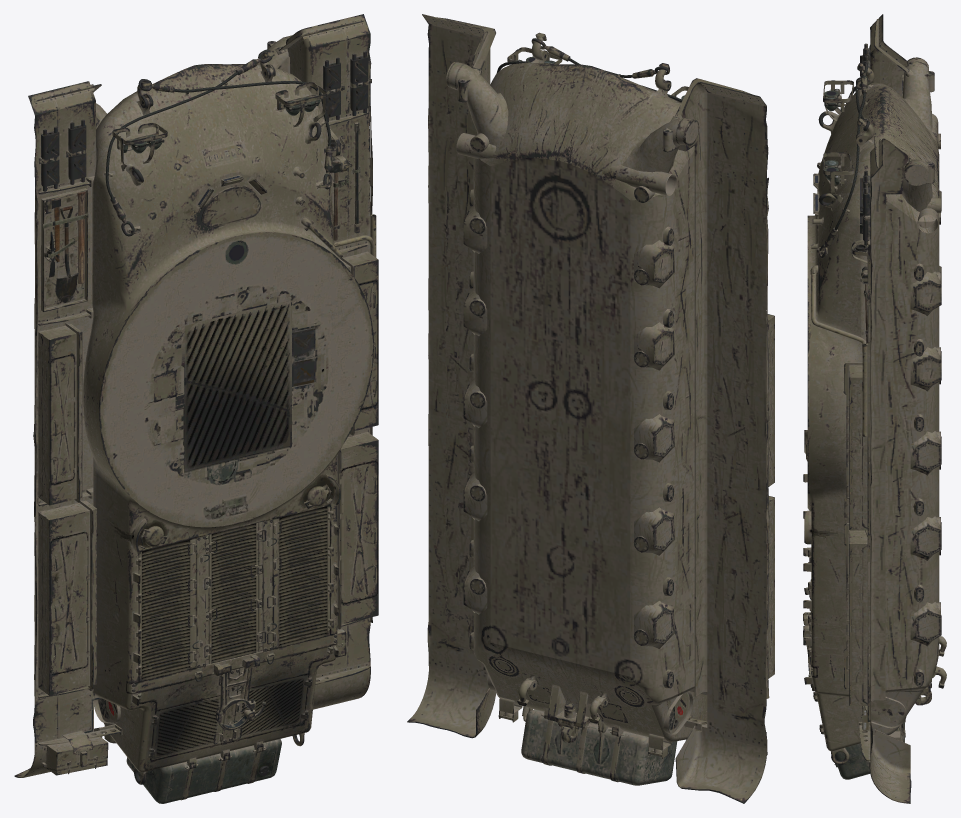
File: Hull.glb
3 views of the same model, side by side, from view 1: azimuth 30°, elevation 25°; view 2: azimuth 150°, elevation 25°; view 3: azimuth 270°, elevation 25° (orthographic). The views are drawn at different scales.
Visible parts, largest first — view 1: set_0_group_0; view 2: set_0_group_0; view 3: set_0_group_0.
Boxes of the visible parts, bbox=[...] form: set_0_group_0: bbox=[14, 14, 378, 803]; set_0_group_0: bbox=[407, 14, 774, 803]; set_0_group_0: bbox=[803, 14, 946, 803].
Size of the model in its own units: 3.54 by 7.21 by 1.41.
Materials: 1 (1 with a texture image).
